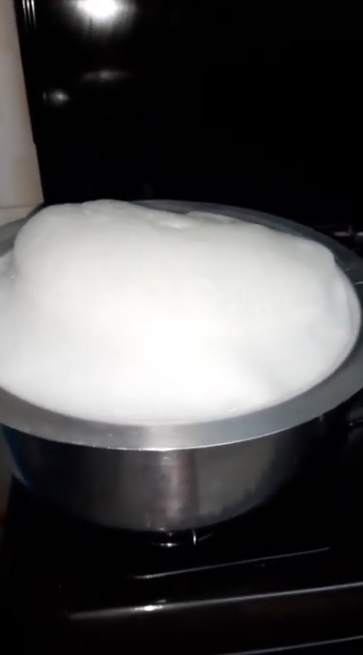Boiled: (5, 187, 351, 542)
